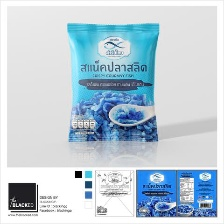snack: (59, 14, 164, 149)
